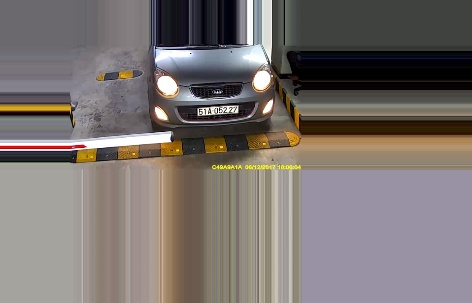plate: (197, 103, 240, 116)
